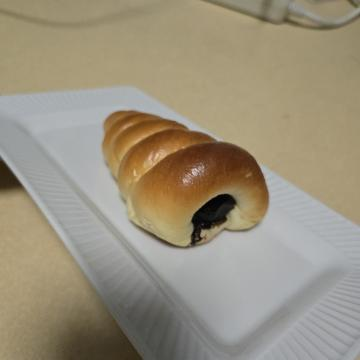cream horn: (101, 82, 262, 276)
